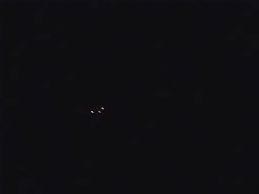Plane: (83, 102, 114, 119)
